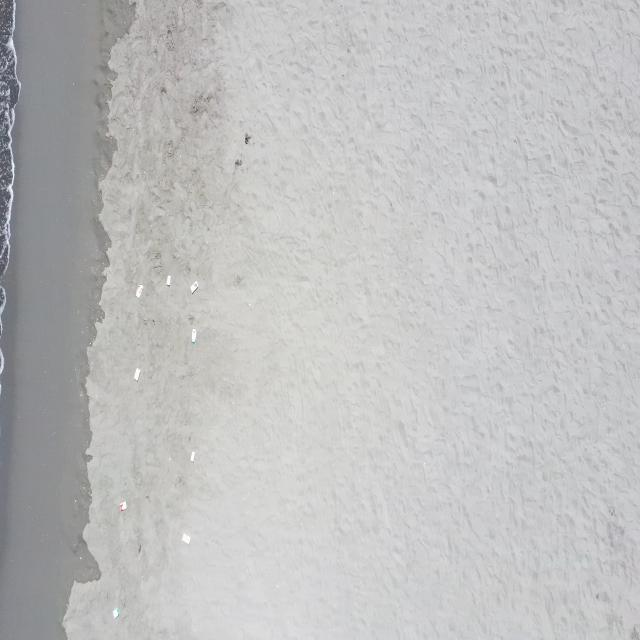retort-pouch: (190, 279, 200, 296), (190, 327, 198, 345), (136, 284, 145, 298), (118, 500, 128, 512), (181, 532, 191, 544), (134, 367, 142, 382), (188, 449, 196, 463), (166, 274, 173, 288), (112, 608, 120, 618)
